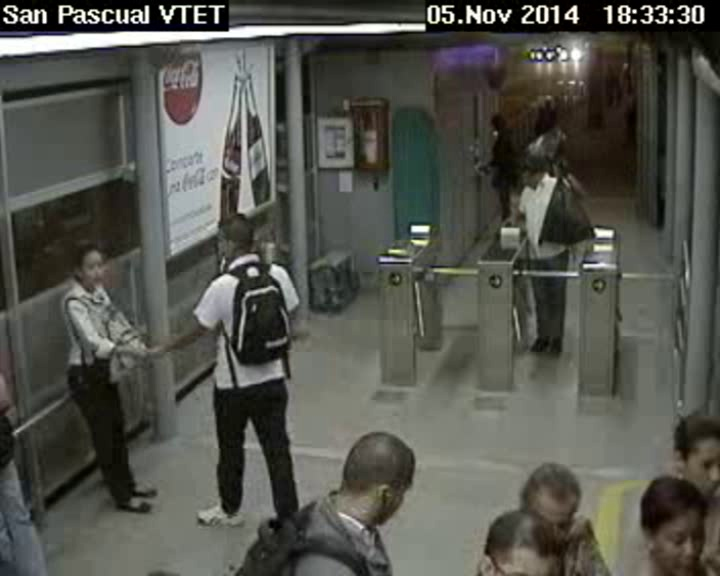person: (321, 419, 421, 530), (637, 470, 710, 575), (509, 449, 592, 532), (471, 504, 563, 576), (670, 403, 720, 505), (214, 213, 260, 267), (70, 246, 108, 289), (517, 155, 547, 189), (485, 112, 506, 131)
